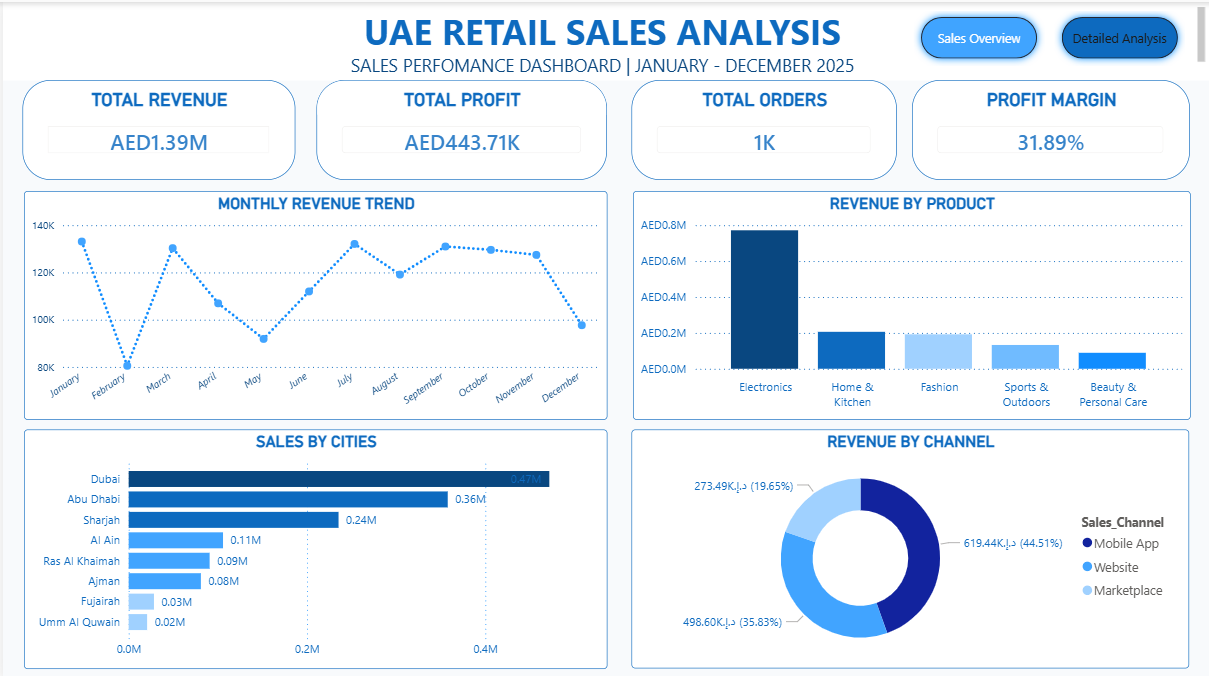

The page's visual inventory and layout, read from the dashboard file:
{"tool":"powerbi","page":{"name":"Sales Overview","canvas":[1280,720],"ordinal":0},"visuals":[{"type":"textbox","box":[0,0,1279.4,83.2],"z":0},{"type":"cardVisual","title":"TOTAL REVENUE","fields":{"Data":["Sum(Overall_perfomance.Total_Revenue)"]},"box":[20.8,83.2,289.1,105.8],"z":1000},{"type":"cardVisual","title":"TOTAL PROFIT","fields":{"Data":["Sum(Overall_perfomance.Total_Profit)"]},"box":[332.6,83.2,308,105.8],"z":2000},{"type":"cardVisual","title":"TOTAL ORDERS","fields":{"Data":["Sum(Overall_perfomance.Total_Orders)"]},"box":[667.1,83.2,281.6,105.8],"z":3000},{"type":"cardVisual","title":"PROFIT MARGIN","fields":{"Data":["Sum(Overall_perfomance.Profit_Margin_Percentage)"]},"box":[963.8,83.2,294.8,105.8],"z":4000},{"type":"lineChart","title":"MONTHLY REVENUE TREND","fields":{"Category":["Monthly_Analysis.Month_Name"],"Y":["Sum(Monthly_Analysis.Monthly_Revenue_AED)"]},"box":[22.5,200,618.8,242.5],"z":5000},{"type":"clusteredBarChart","title":"SALES BY CITIES","fields":{"Category":["City_Analysis.City"],"Y":["Sum(City_Analysis.Total_Revenue_AED)"]},"box":[22.5,453.8,618.8,253.8],"z":6000},{"type":"clusteredColumnChart","title":"REVENUE BY PRODUCT","fields":{"Category":["Category_Analysis.Category"],"Y":["Sum(Category_Analysis.Total_Revenue_AED)"]},"box":[667.5,200,591.2,242.5],"z":7000},{"type":"donutChart","title":"REVENUE BY CHANNEL","fields":{"Category":["Channel_Analysis.Sales_Channel"],"Y":["Sum(Channel_Analysis.Total_Revenue_AED)"]},"box":[667.1,453.5,591.5,253.2],"z":8000},{"type":"pageNavigator","box":[965.7,7.6,289.1,60.5],"z":9000}]}

Visuals, with their boxes in screenshot pixels (x1, y1, x2, y2), scaled from the page's 1280x720 canvas onto the 1209x676 screenshot:
textbox: x1=0 y1=0 x2=1208 y2=78
"TOTAL REVENUE" cardVisual: x1=20 y1=78 x2=293 y2=177
"TOTAL PROFIT" cardVisual: x1=314 y1=78 x2=605 y2=177
"TOTAL ORDERS" cardVisual: x1=630 y1=78 x2=896 y2=177
"PROFIT MARGIN" cardVisual: x1=910 y1=78 x2=1189 y2=177
"MONTHLY REVENUE TREND" lineChart: x1=21 y1=188 x2=606 y2=415
"SALES BY CITIES" clusteredBarChart: x1=21 y1=426 x2=606 y2=664
"REVENUE BY PRODUCT" clusteredColumnChart: x1=630 y1=188 x2=1189 y2=415
"REVENUE BY CHANNEL" donutChart: x1=630 y1=426 x2=1189 y2=664
pageNavigator: x1=912 y1=7 x2=1185 y2=64
